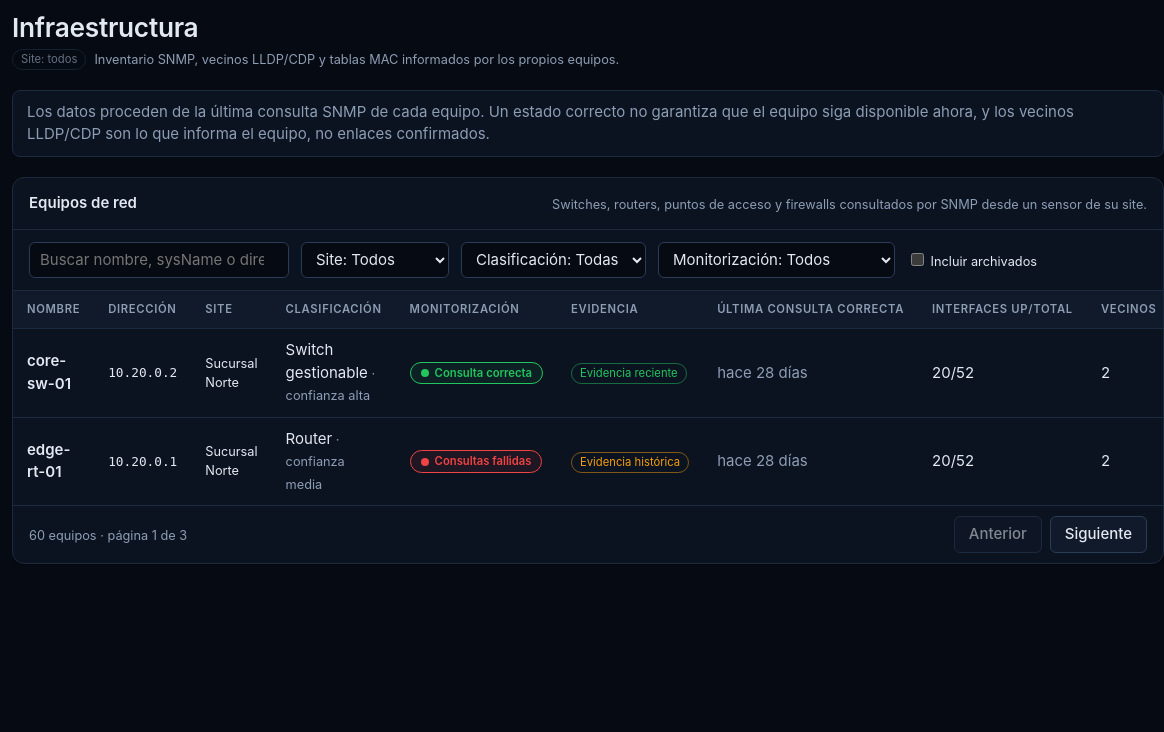
InfrastructurePage: equipos › envía filtros, búsqueda y página al servidor
This screenshot has width=1164, height=732.
Expected: the link "core-sw-01" is shown, [27,351,71,393]
Select "Router" in the dropdown named "Clasificación" at (554, 260), box [461,242,646,278]
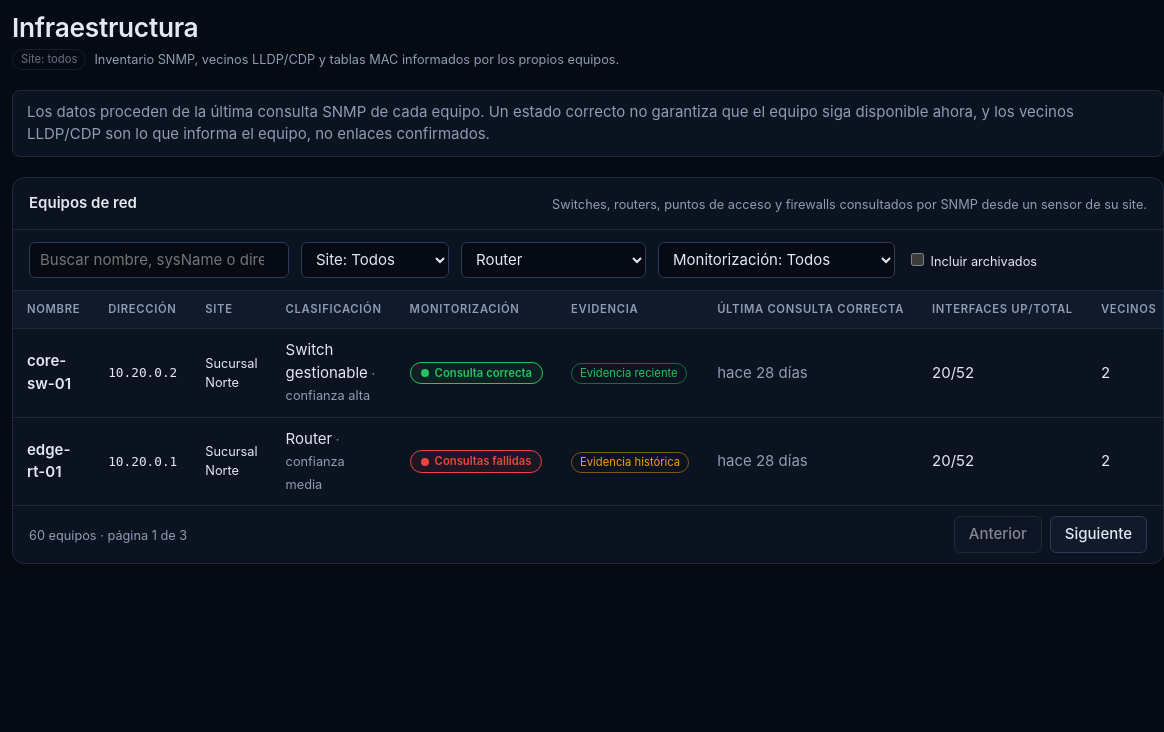
Select "Consultas fallidas" in the dropdown named "Monitorización" at (776, 260), box [658,242,895,278]
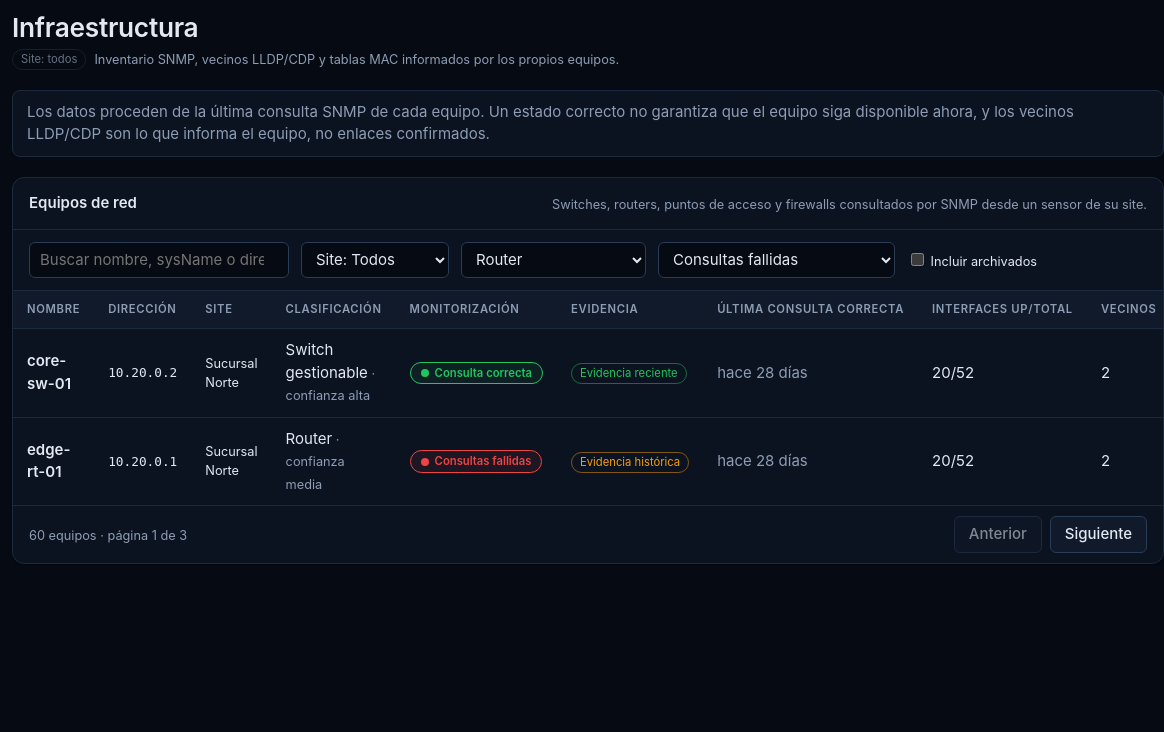
Select "Sucursal Norte" in the dropdown named "Site" at (375, 260), box [301,242,449,278]
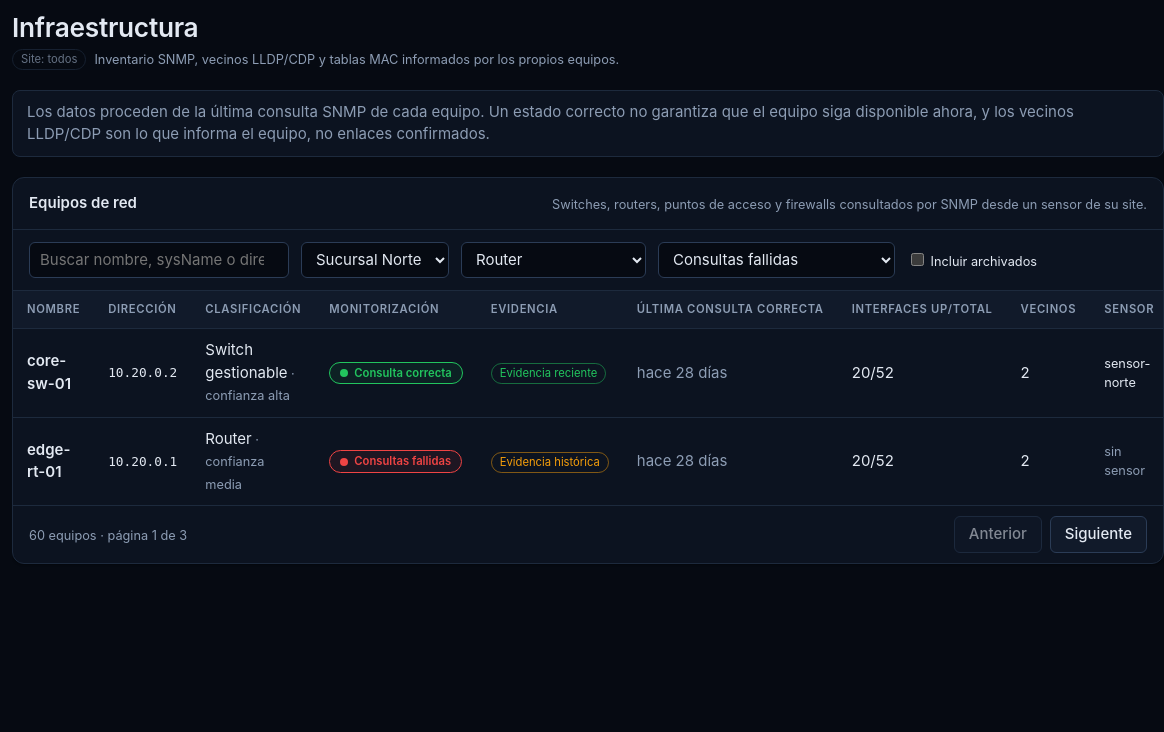
Type "core" into the search field named "Buscar equipos".
click(159, 260); type("core")  # box [29,242,289,278]
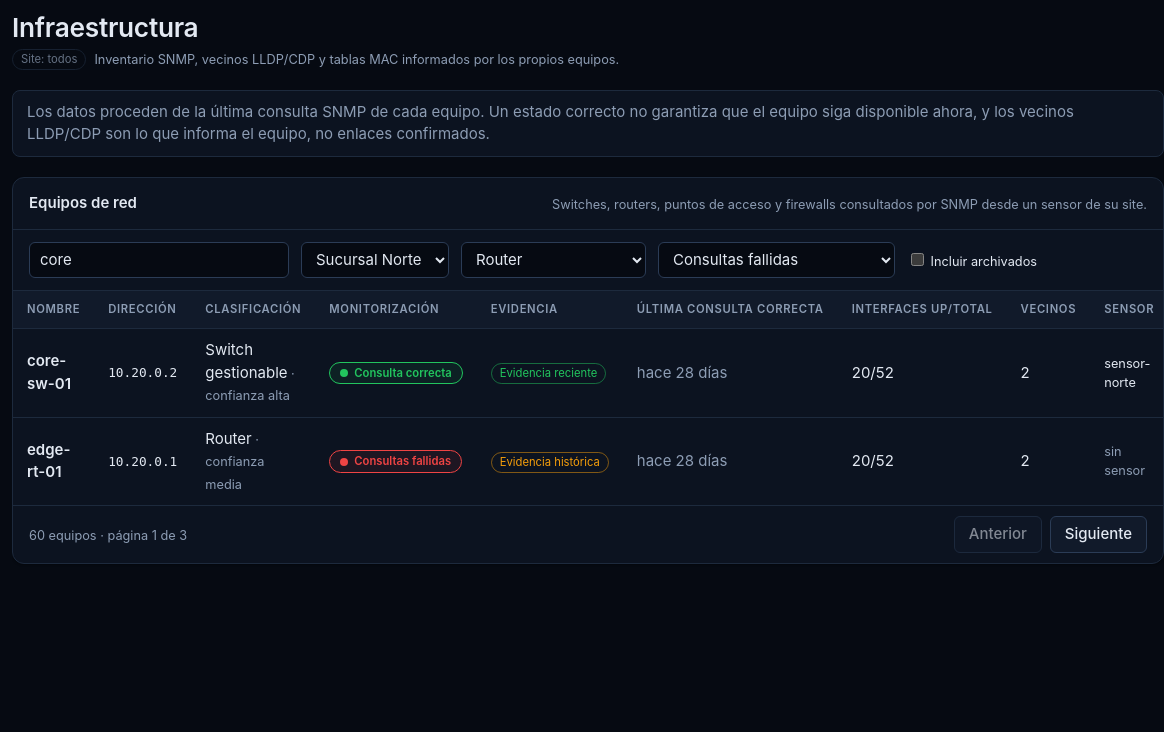
Click the checkbox labelled "Incluir archivados".
click(918, 260)  # box [911,253,924,266]
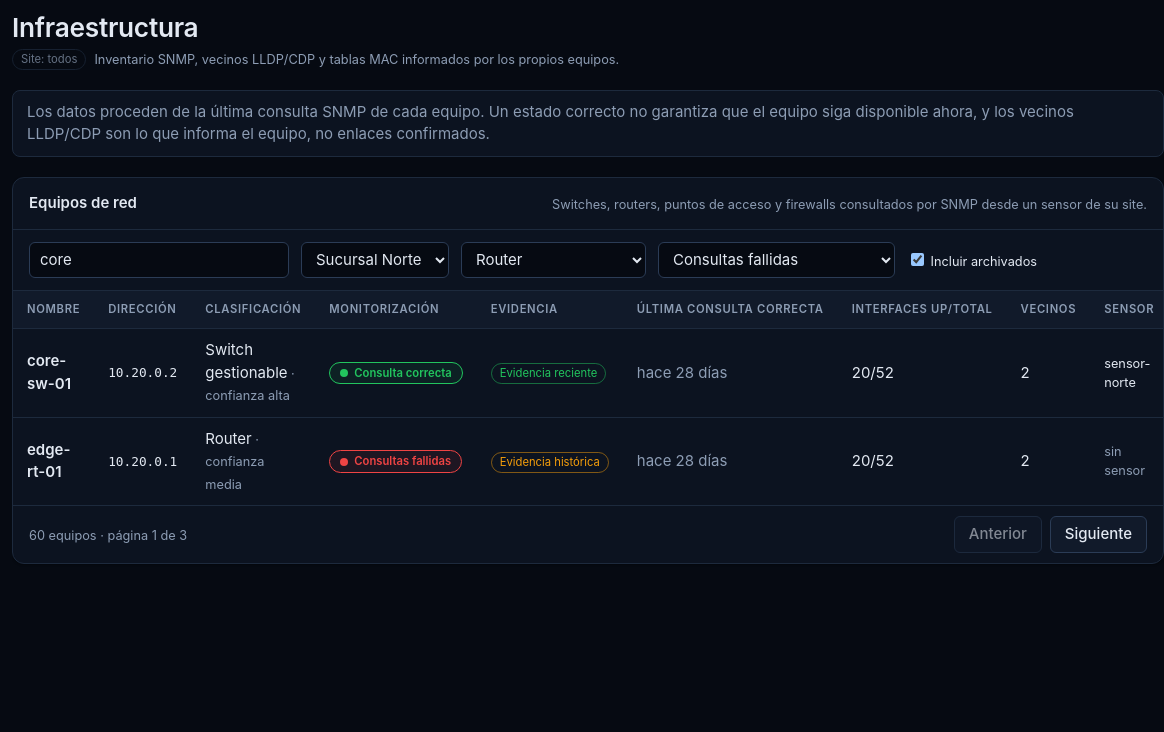
Click the button "Siguiente".
click(1098, 534)  # box [1050,516,1147,553]
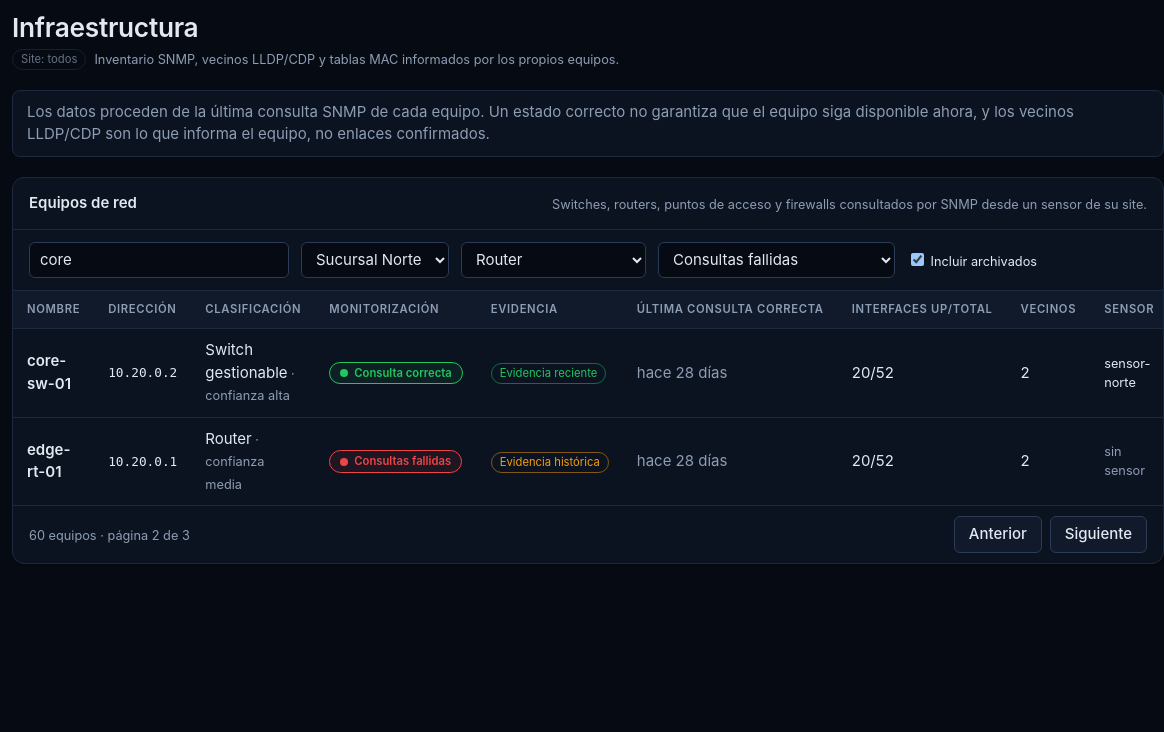
Expected: the text "60 equipos · página 2 de 3" is shown, [29,526,190,545]
